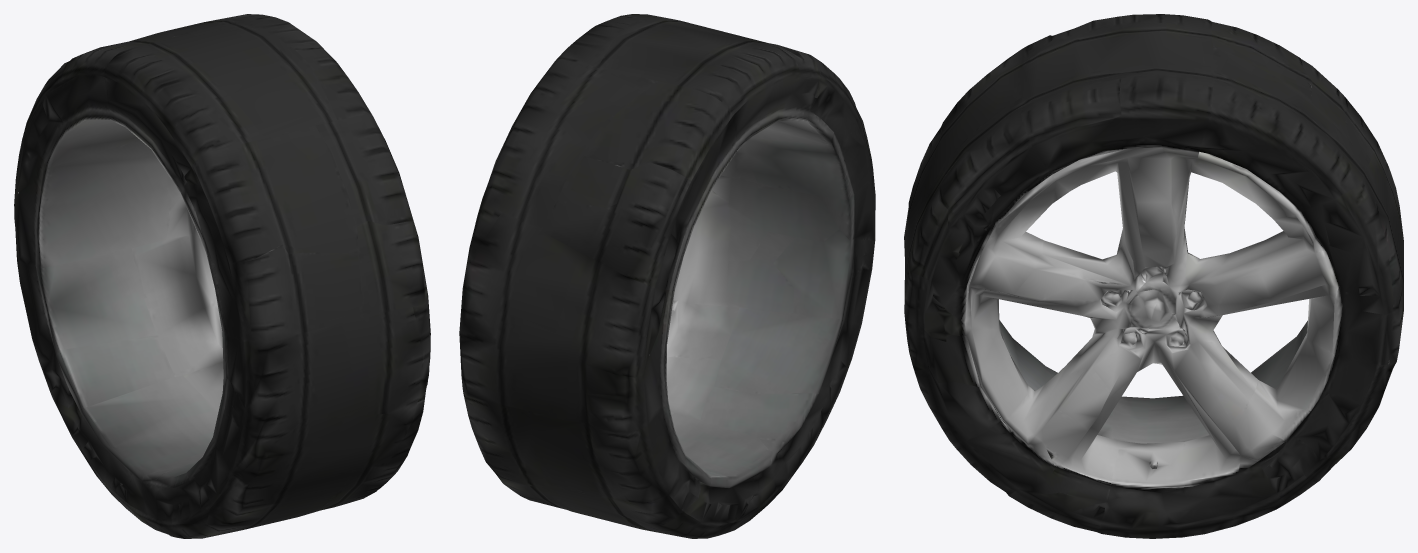
Rendered from car_wheel.glb.
The picture shows the model from 3 angles, left to right: view 1: azimuth 30°, elevation 25°; view 2: azimuth 150°, elevation 25°; view 3: azimuth 270°, elevation 25°; orthographic projection.
Parts seen in each view (by area): view 1: tripo_node_98ed867a-91e9-48a3-86a4-7b5af81c6a6f; view 2: tripo_node_98ed867a-91e9-48a3-86a4-7b5af81c6a6f; view 3: tripo_node_98ed867a-91e9-48a3-86a4-7b5af81c6a6f.
Part boxes in pixels (x1,y1,x2,y2): tripo_node_98ed867a-91e9-48a3-86a4-7b5af81c6a6f: [14, 14, 430, 538]; tripo_node_98ed867a-91e9-48a3-86a4-7b5af81c6a6f: [459, 14, 875, 538]; tripo_node_98ed867a-91e9-48a3-86a4-7b5af81c6a6f: [904, 14, 1403, 538].
Size of the model in its own units: 0.4297 by 0.9992 by 0.9981.
1 material, 1 textured.
